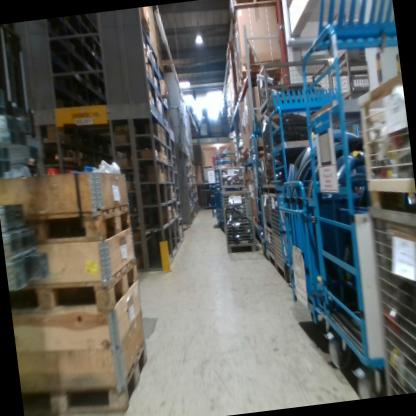pallet: (16, 338, 154, 416), (6, 254, 142, 325), (21, 198, 133, 253)
stillage: (363, 202, 416, 393), (347, 71, 416, 207), (258, 101, 346, 188), (252, 51, 334, 107), (219, 186, 259, 256), (266, 192, 296, 283), (329, 53, 380, 97), (213, 157, 248, 192), (262, 221, 276, 266), (255, 153, 269, 188)
